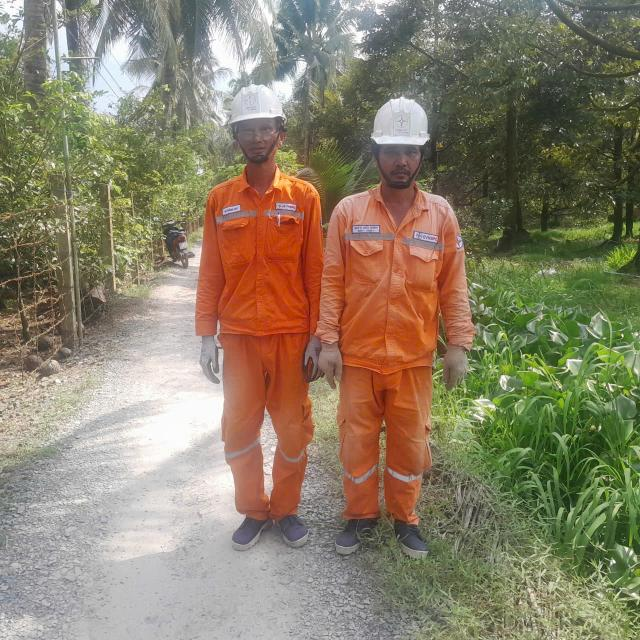gloves: (183, 329, 232, 395), (430, 338, 473, 392), (309, 333, 348, 388), (292, 329, 321, 383)
helmet: (203, 63, 299, 133), (347, 95, 446, 153)
shoes: (217, 499, 273, 553), (381, 504, 431, 563), (338, 502, 376, 555), (272, 505, 315, 548)
